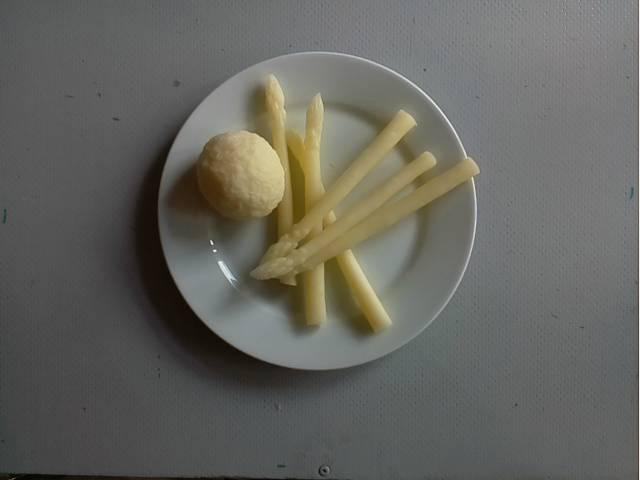Asparagus + dumpling: (195, 71, 479, 332)
